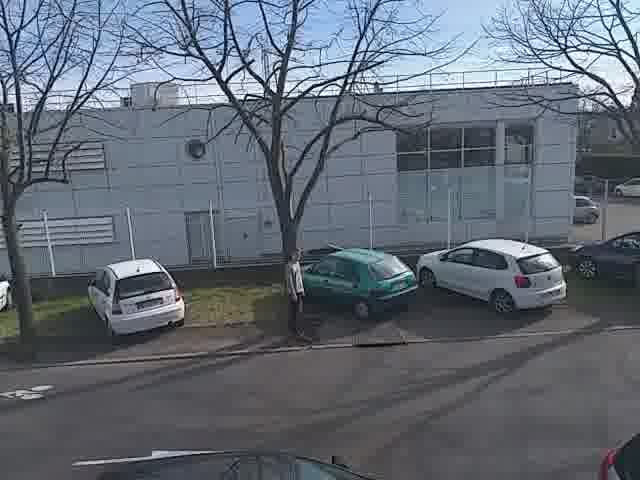persona: (276, 240, 311, 345)
